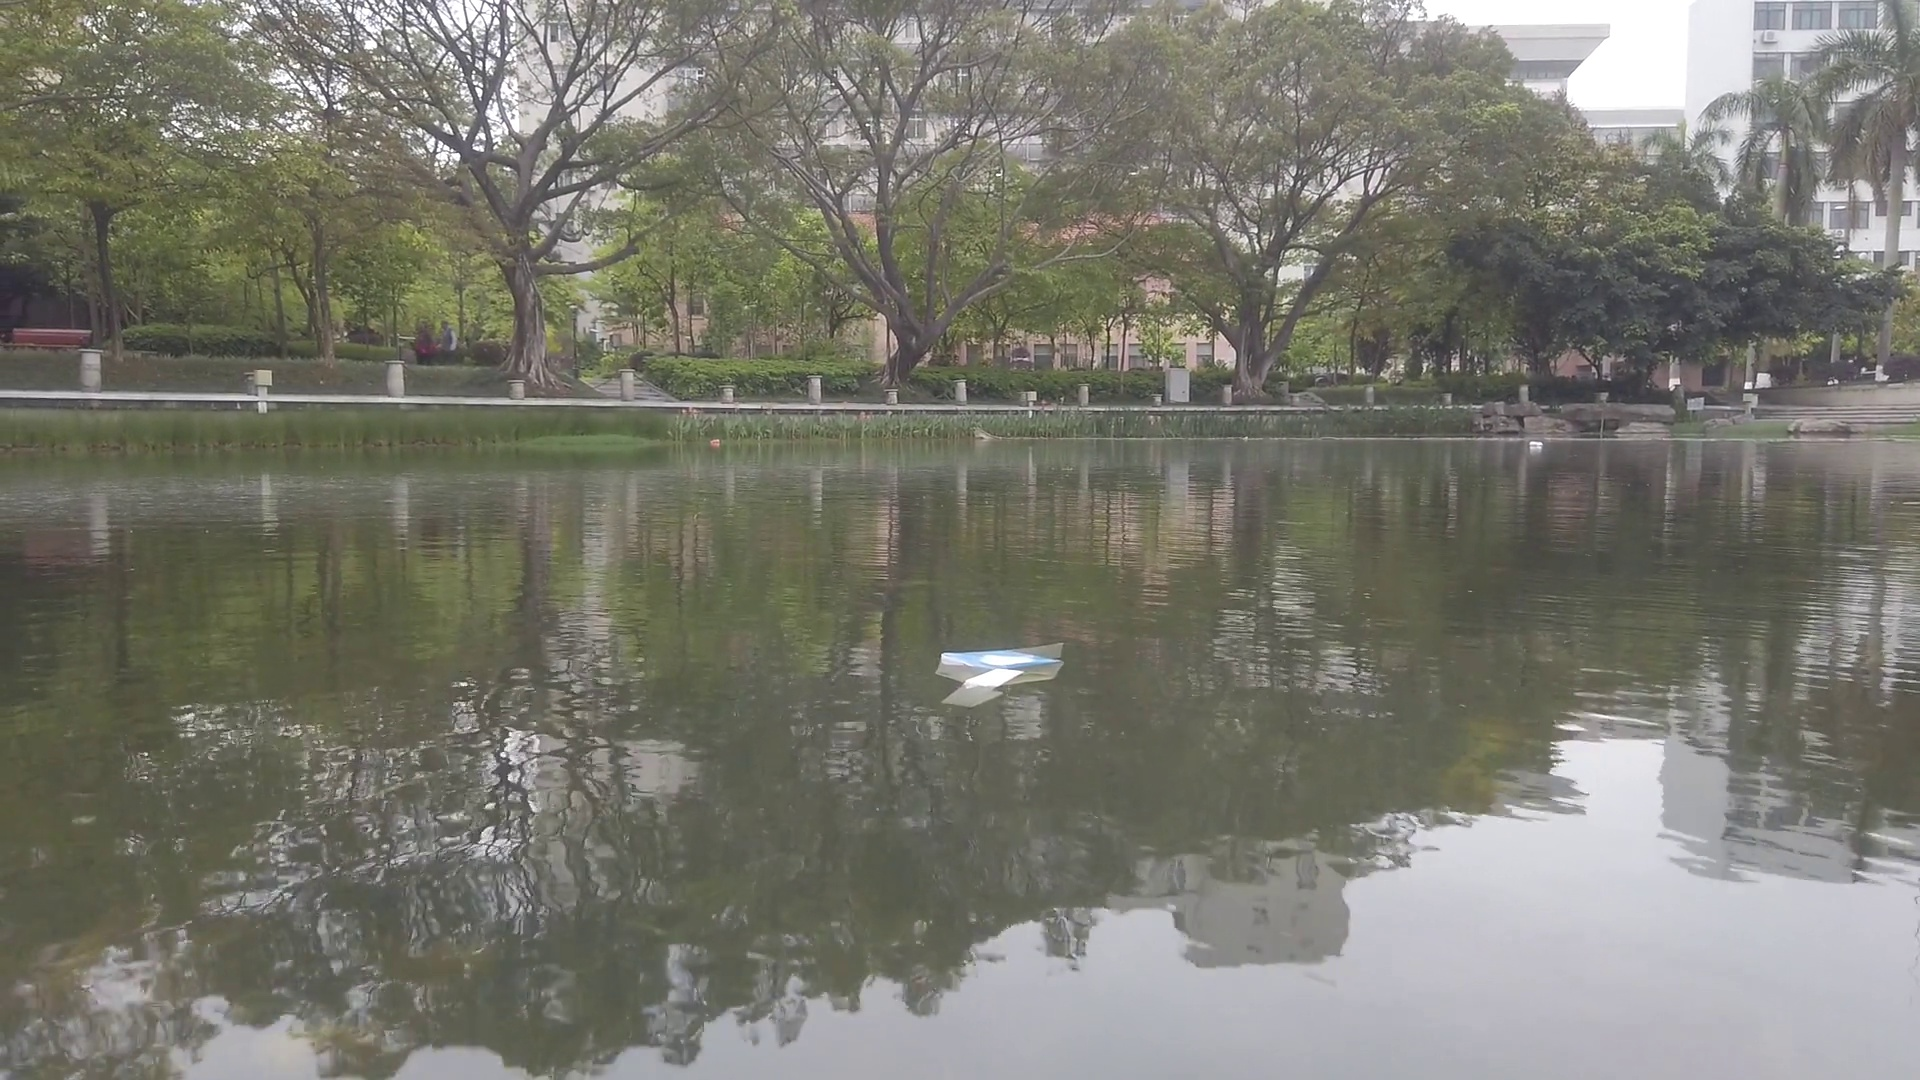bottle: (1530, 440, 1547, 446), (707, 438, 720, 443)
carton: (938, 641, 1068, 699)
